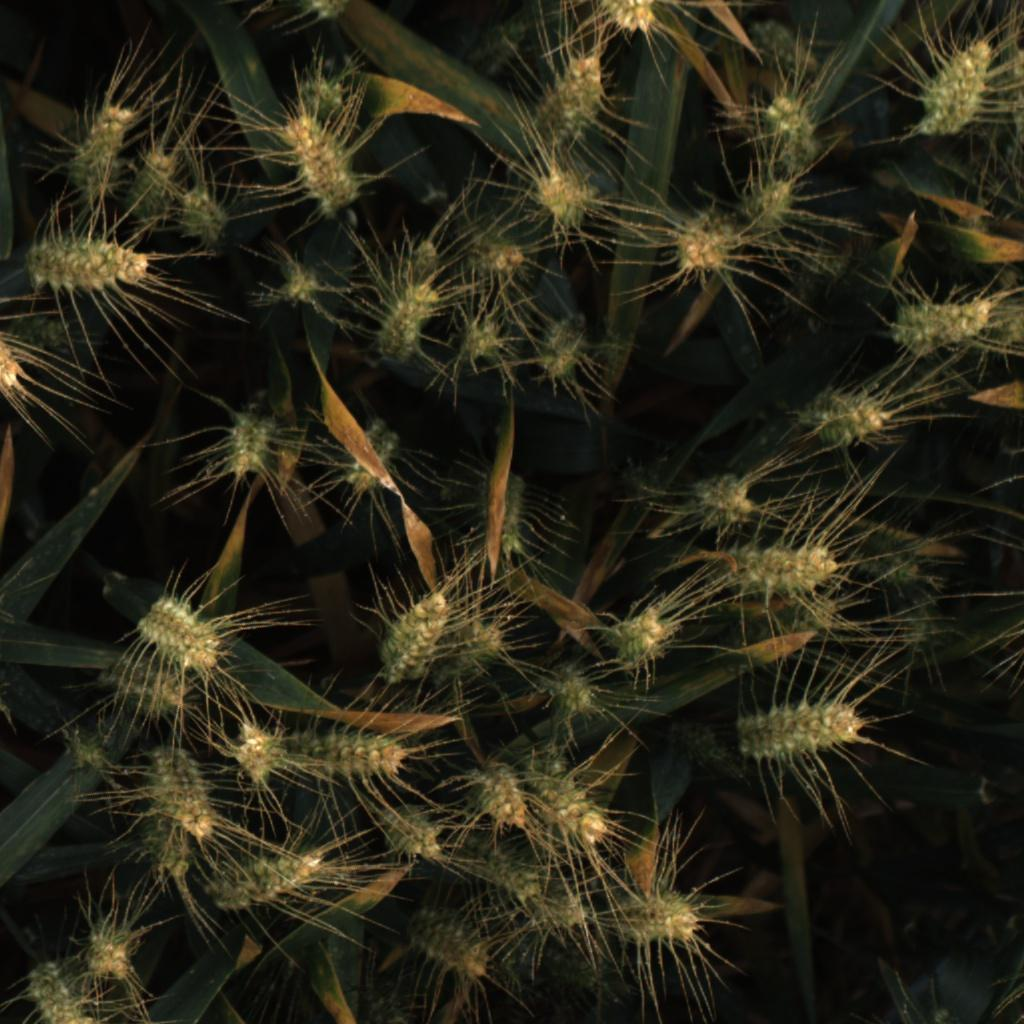0-0: (84, 637, 203, 725), (728, 688, 862, 764), (23, 226, 149, 298), (523, 743, 609, 846), (909, 35, 991, 142), (275, 113, 359, 217), (526, 53, 615, 150), (61, 106, 142, 208), (279, 728, 420, 786), (206, 847, 330, 911), (371, 591, 451, 688), (149, 744, 222, 845), (137, 594, 230, 673), (406, 902, 491, 983), (606, 882, 700, 954), (323, 419, 402, 500), (888, 294, 998, 352), (725, 540, 842, 594), (754, 93, 825, 179), (454, 834, 546, 899), (437, 612, 508, 694), (798, 387, 889, 450), (371, 281, 440, 364), (741, 17, 825, 85), (527, 164, 608, 233), (841, 521, 924, 588), (602, 602, 678, 674), (669, 207, 736, 281), (127, 142, 184, 228), (494, 467, 543, 567), (374, 797, 448, 862), (464, 760, 530, 830), (217, 408, 275, 487), (27, 957, 94, 1024), (533, 652, 597, 722), (143, 804, 197, 886), (292, 73, 353, 145), (520, 874, 587, 939), (384, 228, 445, 298), (465, 15, 530, 80), (225, 714, 282, 787), (538, 312, 596, 382), (690, 470, 755, 532), (467, 233, 537, 288), (738, 176, 798, 238), (58, 725, 124, 781), (84, 915, 141, 978), (453, 310, 511, 371), (885, 598, 943, 659), (177, 185, 231, 245), (583, 0, 661, 39), (271, 251, 321, 311), (994, 42, 1024, 140), (793, 585, 845, 640), (8, 314, 76, 356), (0, 287, 23, 391), (353, 993, 421, 1024), (984, 299, 1024, 347), (262, 0, 352, 21), (903, 1003, 967, 1024)
